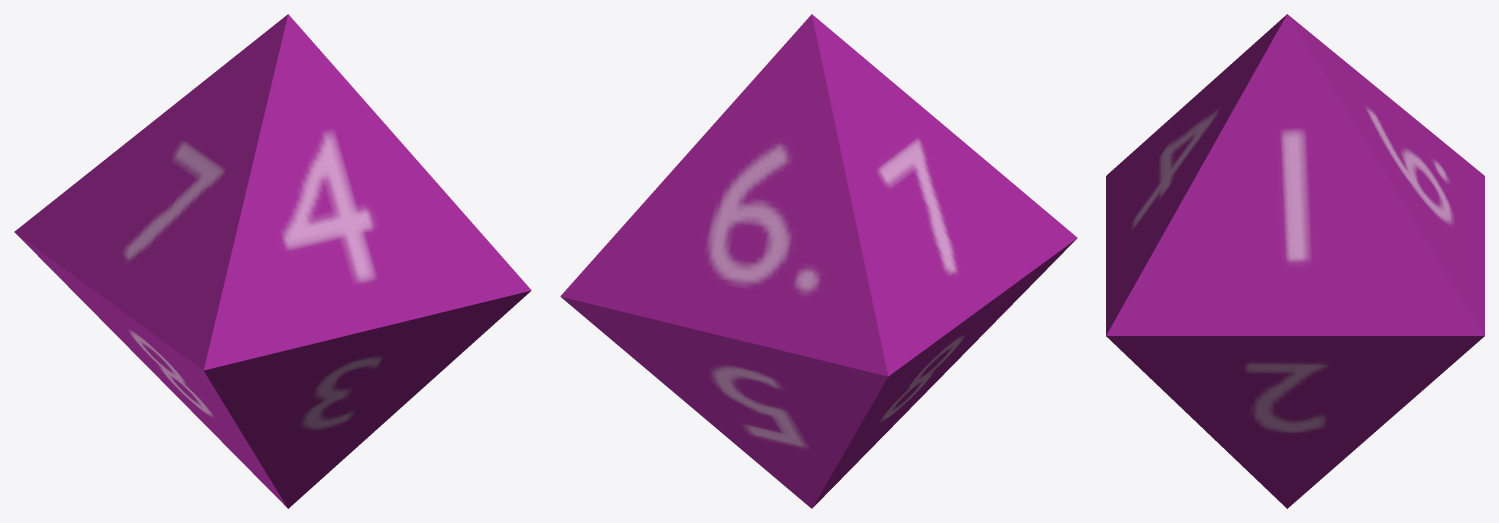
The picture shows the model from 3 angles, left to right: view 1: azimuth 30°, elevation 25°; view 2: azimuth 150°, elevation 25°; view 3: azimuth 270°, elevation 25°; orthographic projection.
Visible parts, largest first — view 1: Plane; view 2: Plane; view 3: Plane.
Boxes of the visible parts, x1=… form: Plane: x1=14, y1=14, x2=531, y2=508; Plane: x1=560, y1=14, x2=1077, y2=508; Plane: x1=1106, y1=14, x2=1484, y2=508.
Size of the model in its own units: 2 by 2.88 by 2.
1 material, 1 textured.
